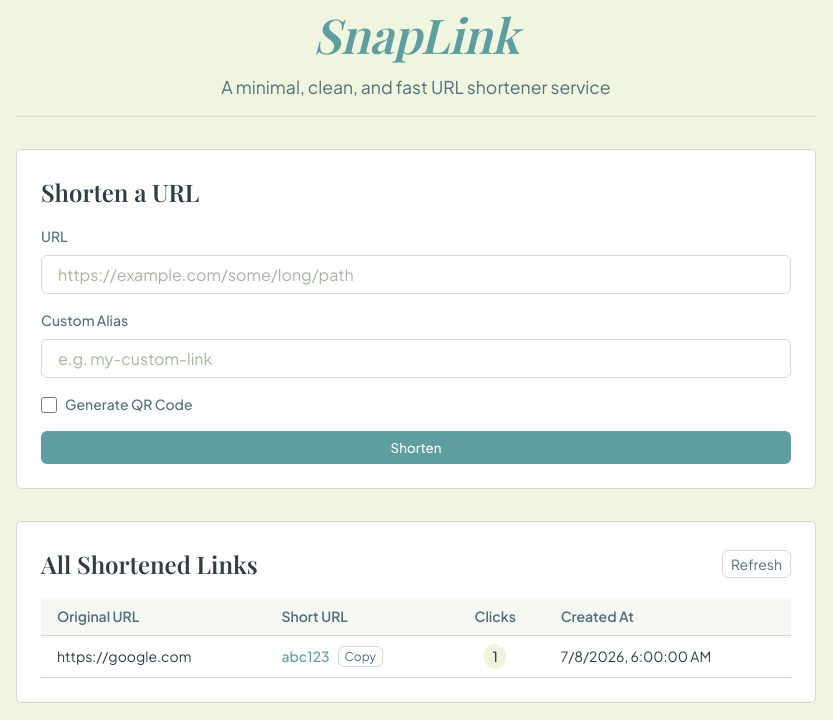
URL Shortener Frontend App › refreshes the list of links when the refresh button is clicked
Expected: the text "https://google.com" is shown, [41,636,266,678]
Click the button "Refresh" at (756, 564), box [722,550,791,578]
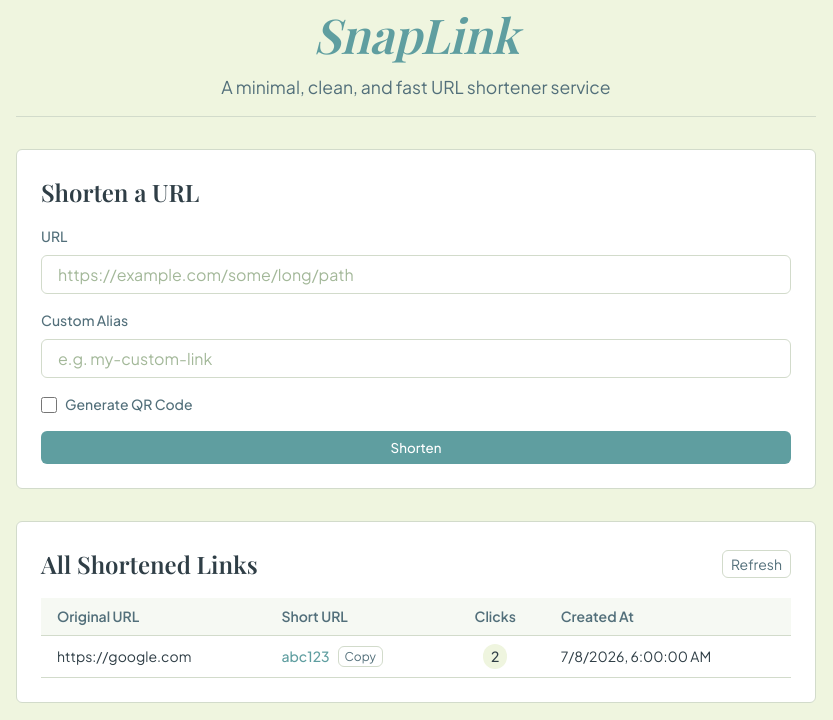
Expected: the text "2" is shown, [483,644,507,669]
